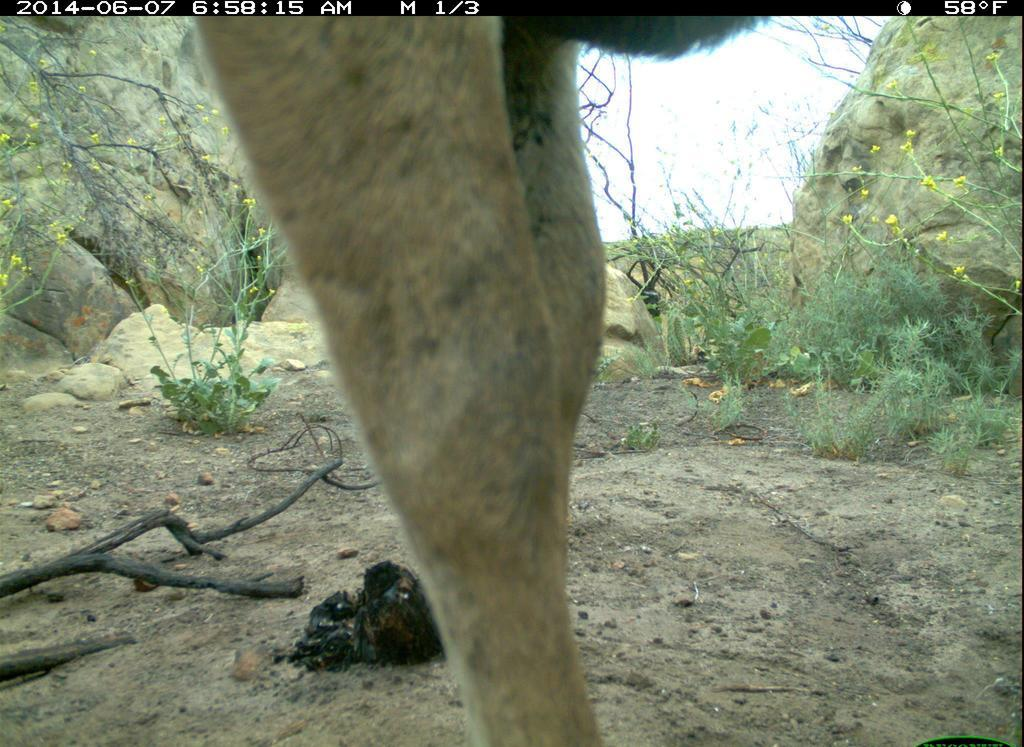deer: (184, 13, 775, 747)
